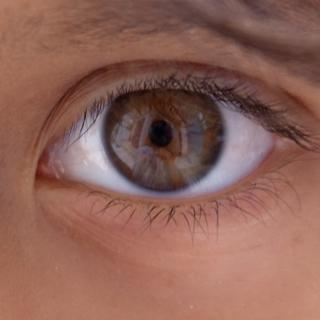pupil: (148, 121, 173, 146)
